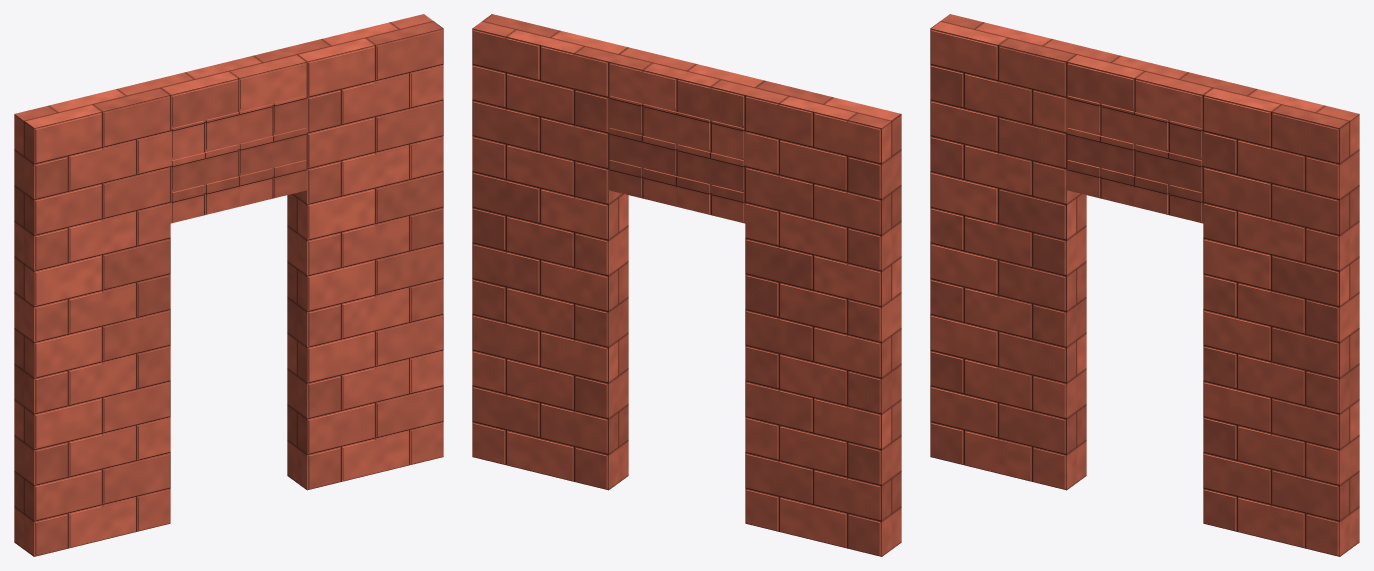
Rendered from Kit_Brick_WallDoor.fbx.
The picture shows the model from 3 angles, left to right: view 1: azimuth 30°, elevation 25°; view 2: azimuth 150°, elevation 25°; view 3: azimuth 330°, elevation 25°; orthographic projection.
Parts seen in each view (by area): view 1: Kit_Brick_WallDoor_LOD0; view 2: Kit_Brick_WallDoor_LOD0; view 3: Kit_Brick_WallDoor_LOD0.
Part boxes in pixels (x1,y1,x2,y2): Kit_Brick_WallDoor_LOD0: (14,14,443,556); Kit_Brick_WallDoor_LOD0: (472,14,901,556); Kit_Brick_WallDoor_LOD0: (930,14,1359,556).
Size of what is drawn, in the model's own units: 3 by 3 by 0.27.
